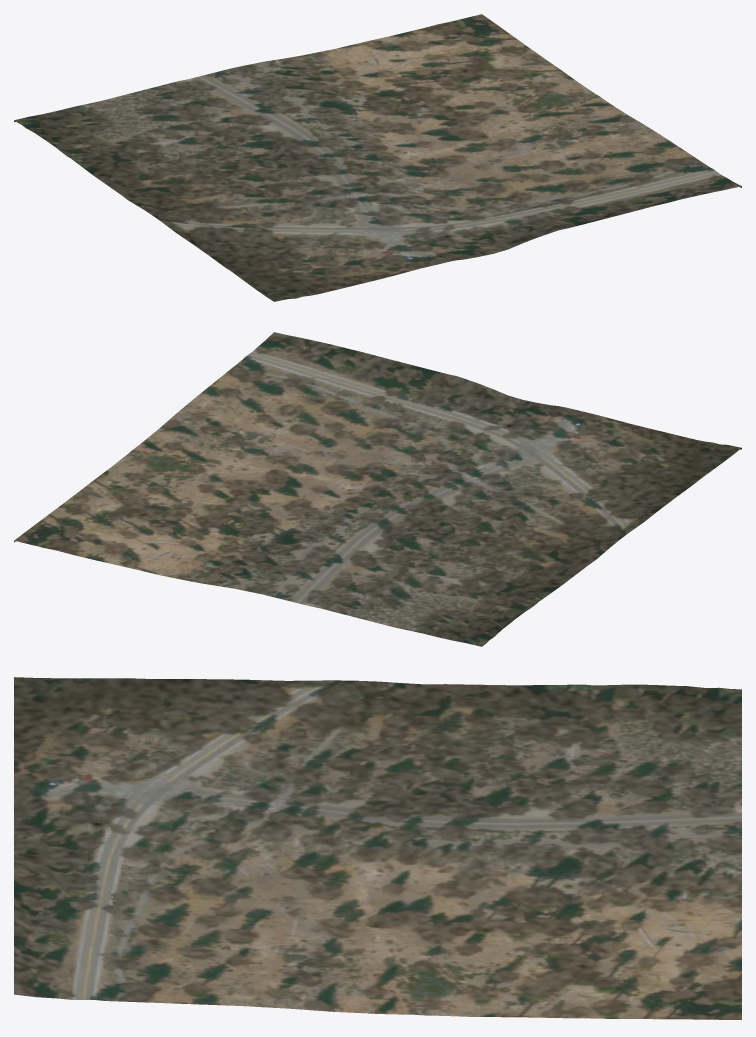
The picture shows the model from 3 angles, top to bottom: view 1: azimuth 30°, elevation 25°; view 2: azimuth 150°, elevation 25°; view 3: azimuth 270°, elevation 25°; orthographic projection. The views are drawn at different scales.
Bounding box in the file's own units: 250 × 11.14 × 241.
1 material, 1 textured.
